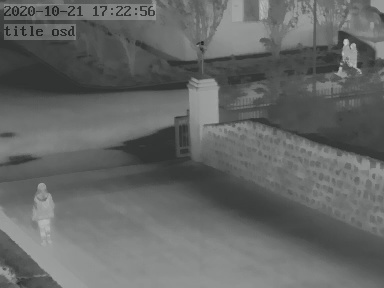person: (31, 177, 56, 243), (347, 37, 362, 73), (336, 40, 348, 73)
